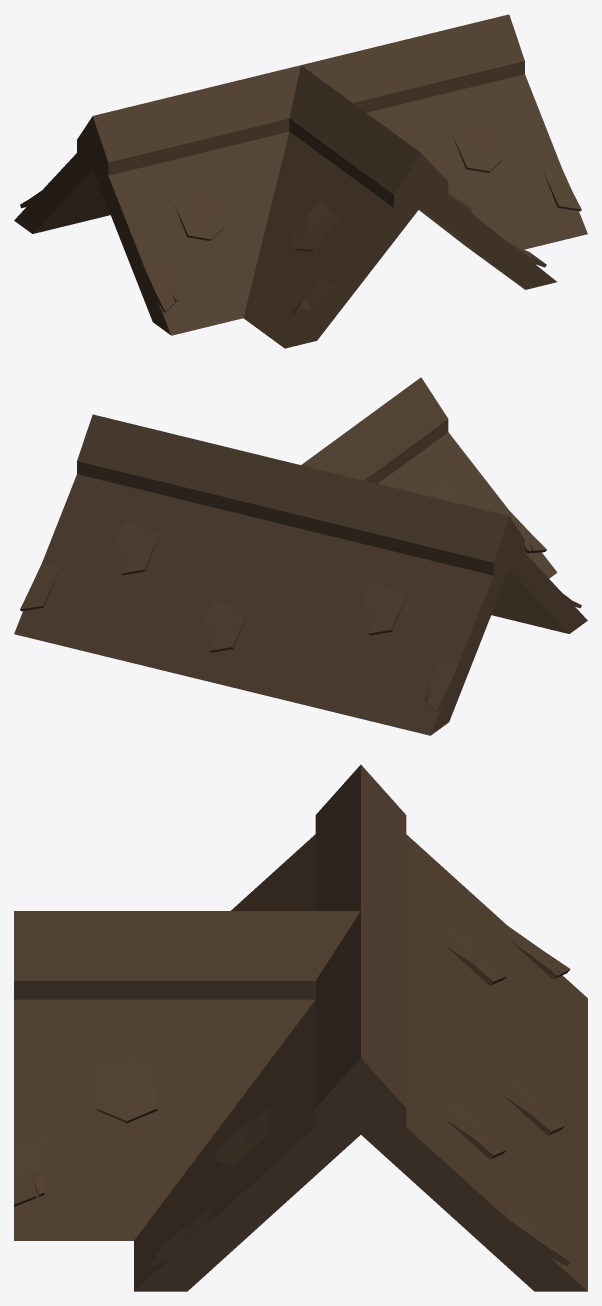
The model's file is roof-wood-center-top-t.fbx.
3 views of the same model, one above another, from view 1: azimuth 30°, elevation 25°; view 2: azimuth 150°, elevation 25°; view 3: azimuth 270°, elevation 25° (orthographic). The views are drawn at different scales.
Visible parts, largest first — view 1: roof-wood-center-top-t; view 2: roof-wood-center-top-t; view 3: roof-wood-center-top-t.
Part boxes in pixels (x1,y1,x2,y2): roof-wood-center-top-t: [14, 14, 587, 348]; roof-wood-center-top-t: [14, 377, 587, 735]; roof-wood-center-top-t: [14, 764, 587, 1291].
Size of the model in its own units: 6 by 2.23 by 4.96.
